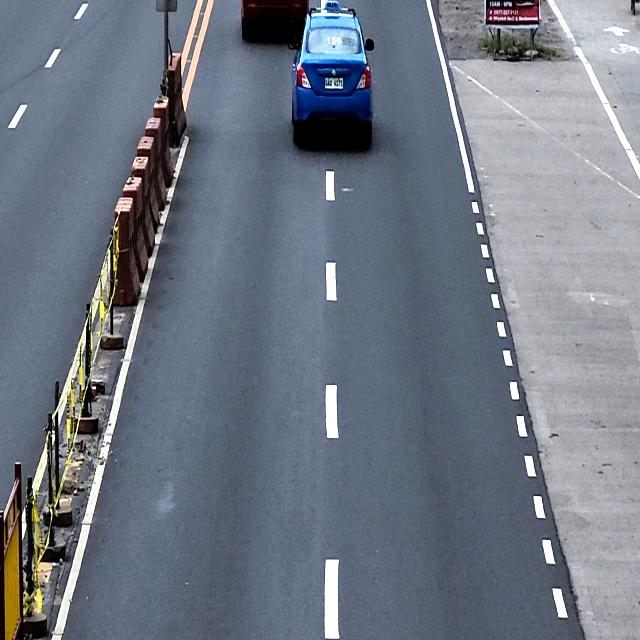Car: (290, 1, 374, 144)
License-Plate: (324, 75, 344, 90)
